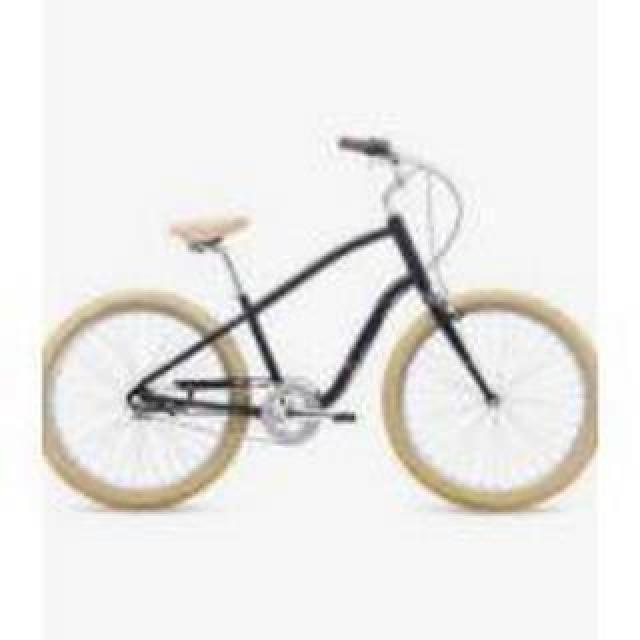Person: (41, 132, 595, 540)
